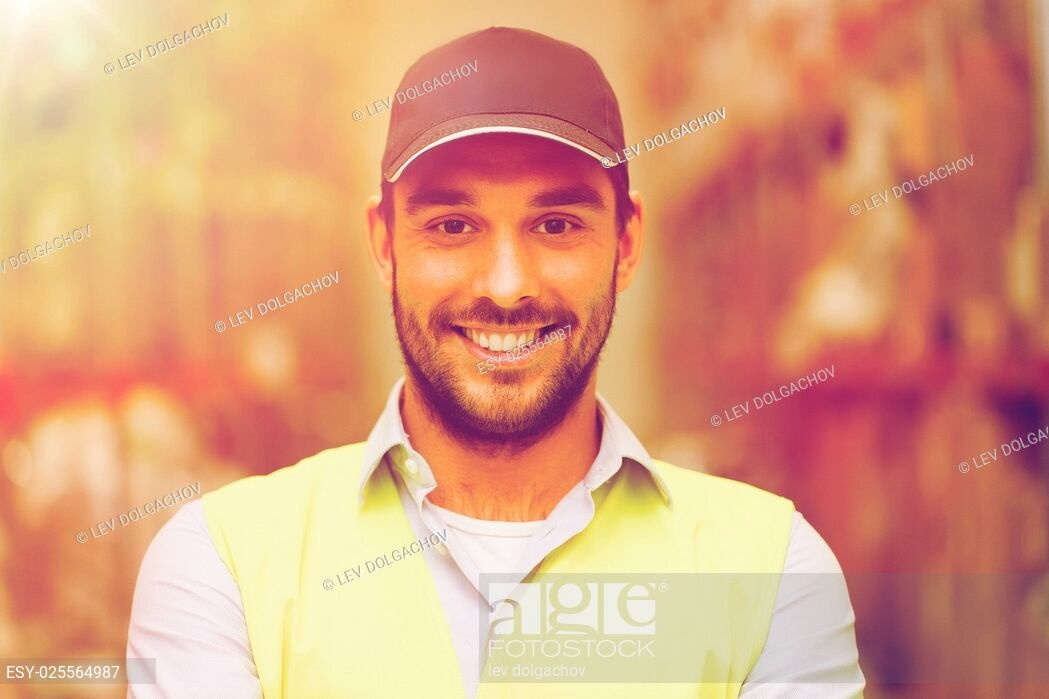person with partial safety: (135, 29, 862, 698)
safety vest: (205, 436, 770, 699)
